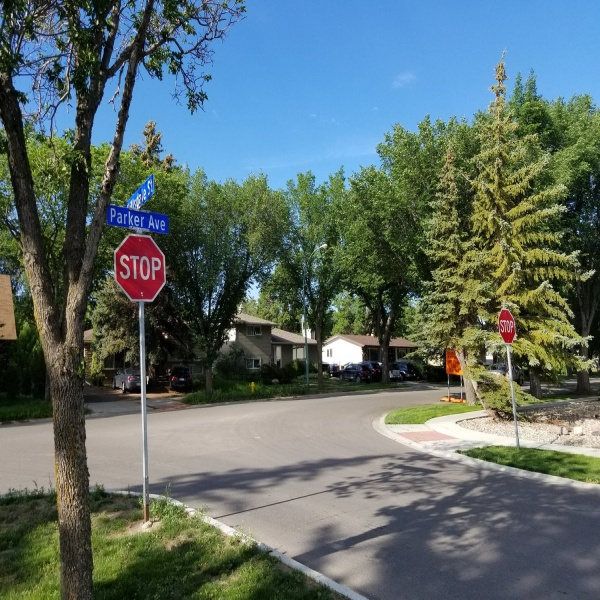stop: (114, 237, 168, 303)
